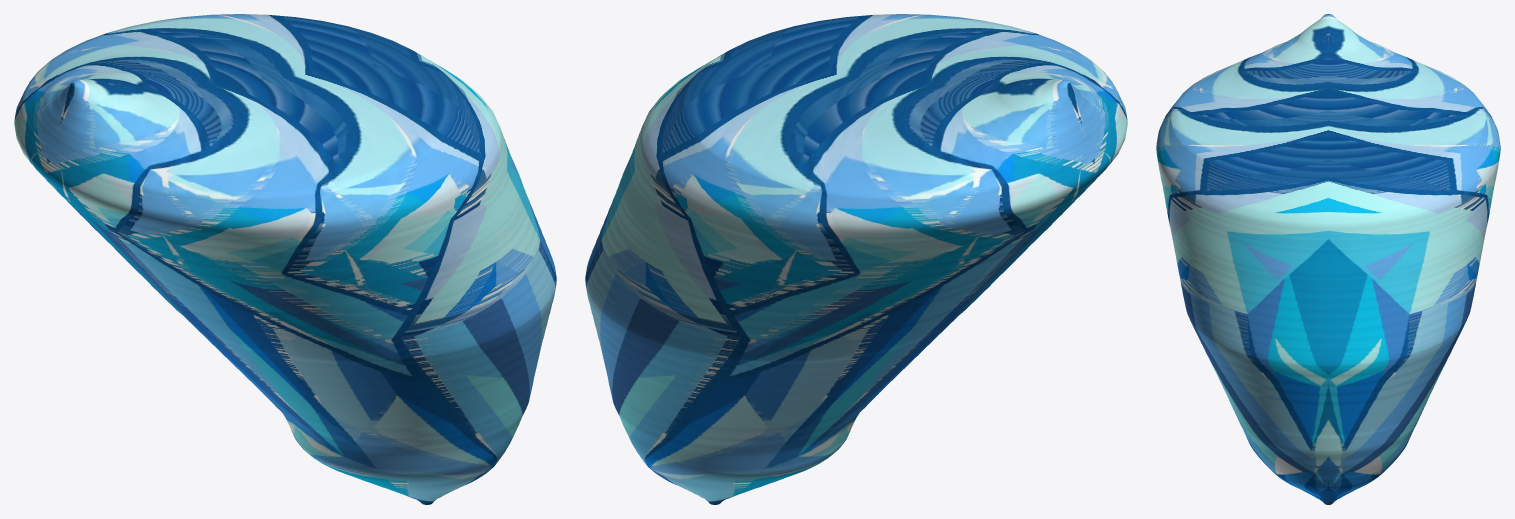
The model's file is large_crystal_fan.glb.
The picture shows the model from 3 angles, left to right: view 1: azimuth 30°, elevation 25°; view 2: azimuth 150°, elevation 25°; view 3: azimuth 270°, elevation 25°; orthographic projection. The views are drawn at different scales.
Parts seen in each view (by area): view 1: large_crystal_fan; view 2: large_crystal_fan; view 3: large_crystal_fan.
Part boxes in pixels (x1=…): large_crystal_fan: x1=14, y1=14, x2=556, y2=504; large_crystal_fan: x1=585, y1=14, x2=1127, y2=504; large_crystal_fan: x1=1156, y1=14, x2=1500, y2=504.
Bounding box in the file's own units: 0.9955 × 0.9932 × 0.8481.
1 material, 1 textured.
